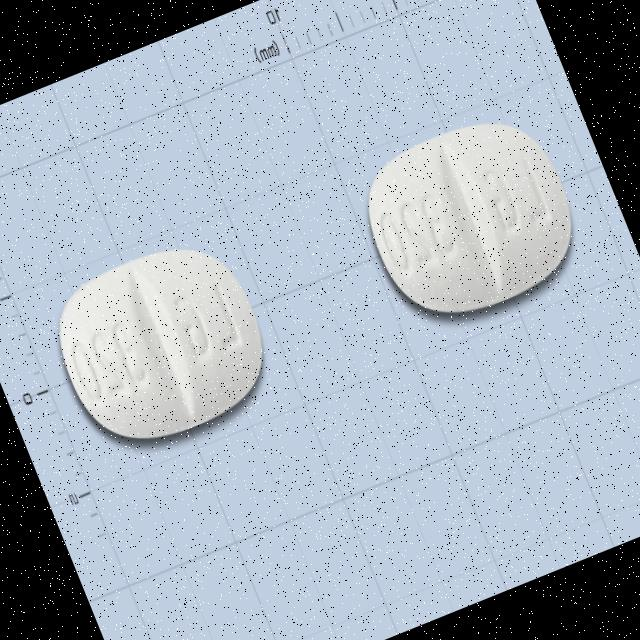Factive: (37, 222, 286, 464), (346, 96, 594, 338)
